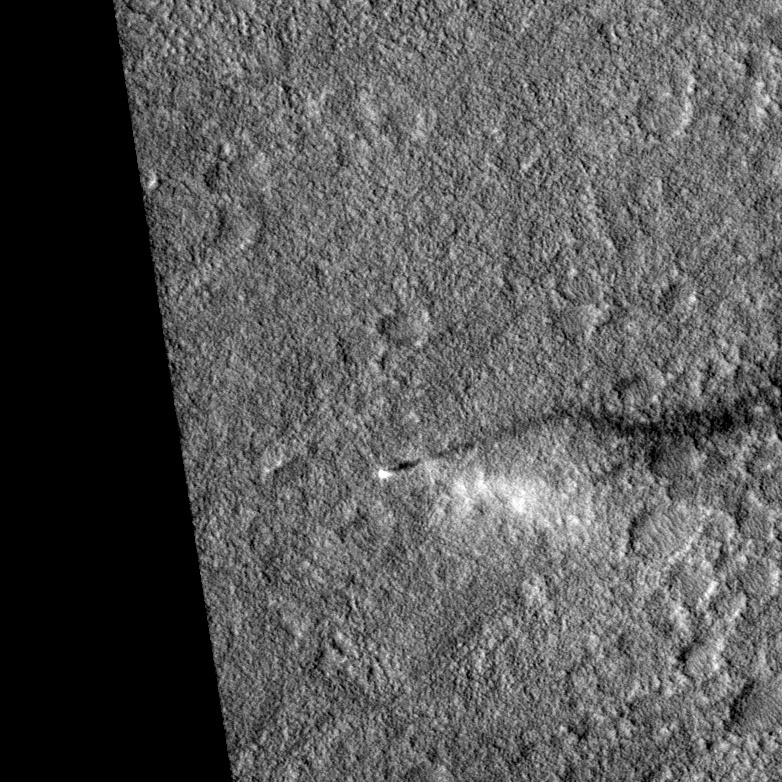dust_devil: (372, 358, 782, 549)
